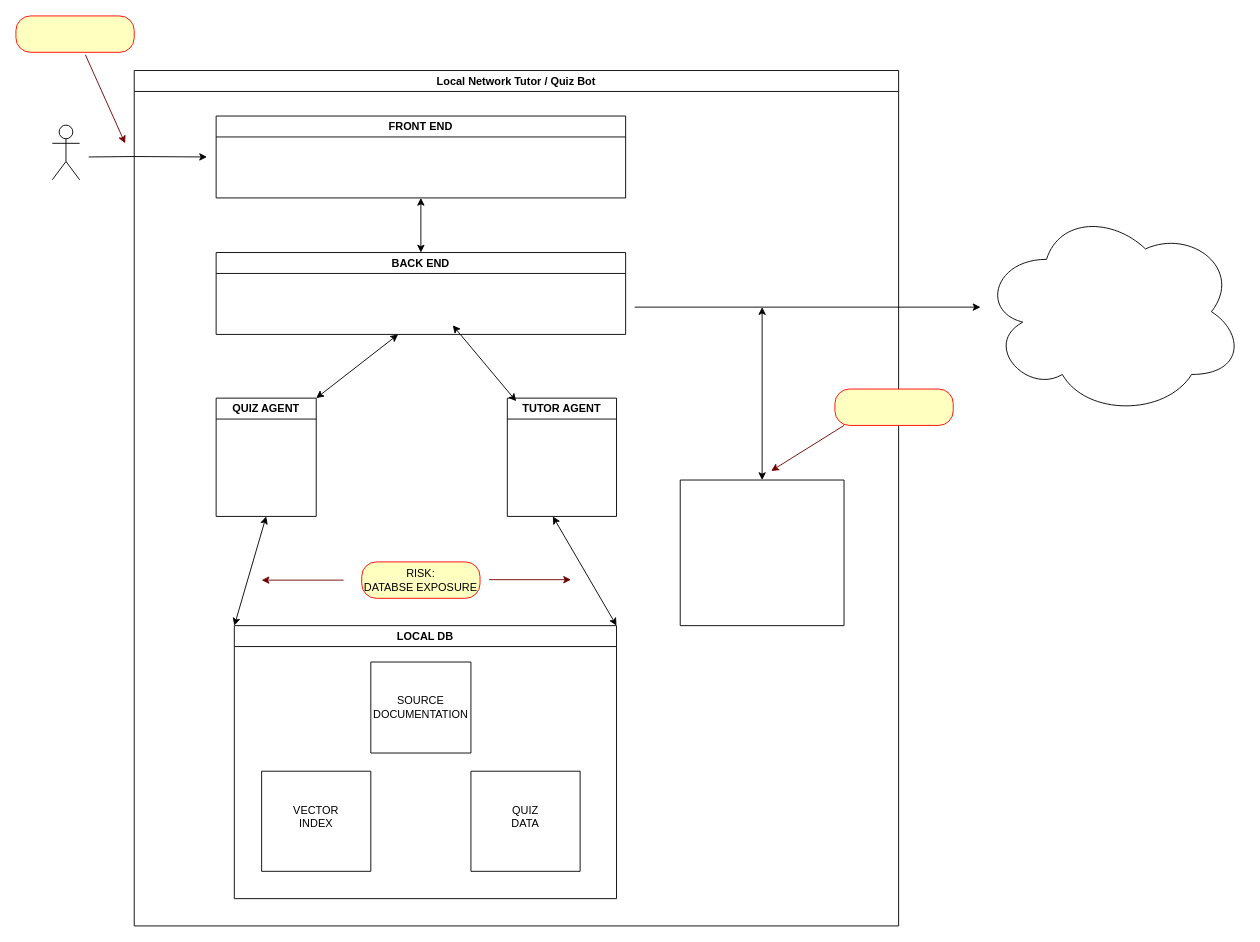
The diagram is 1260 pixels wide and 942 high, and some of its shapes have lost their labels. Each missing label, with the centre of its shape:
"API KEY STORAGE" belongs at [761,552].
"EXTERNAL WEB" belongs at [1112,311].
"RISK: API KEY EXPOSURE" belongs at [893,406].
"RISK: PROMPT INJECTION" belongs at [74,33].
"User" belongs at [65,152].
